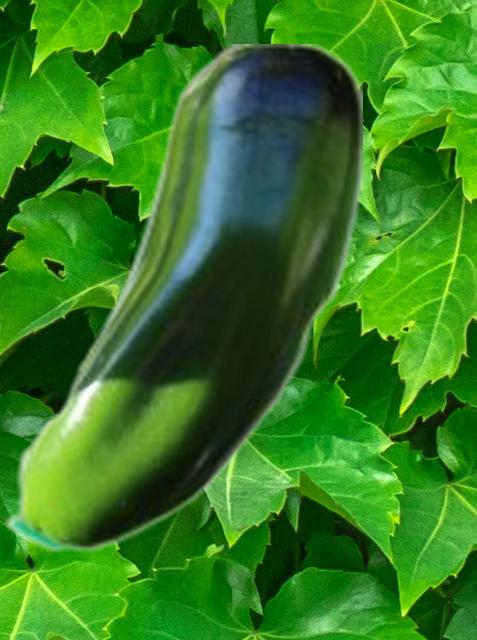green_chili: (1, 44, 361, 554)
